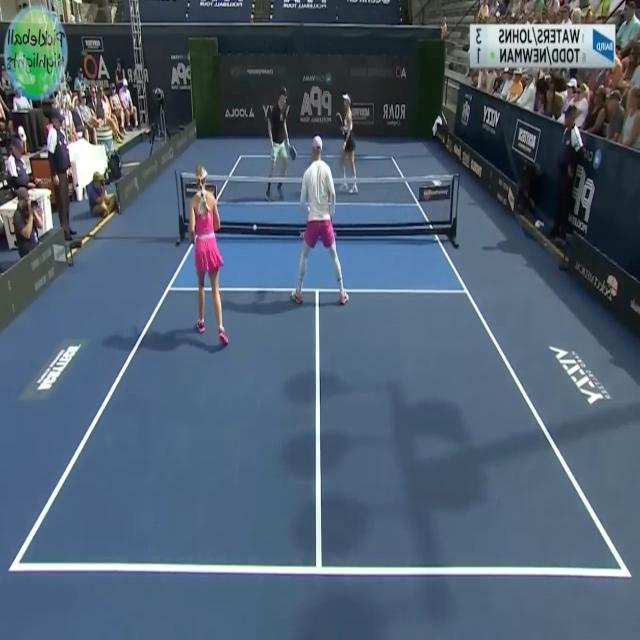Pickleball: (253, 221, 258, 232)
